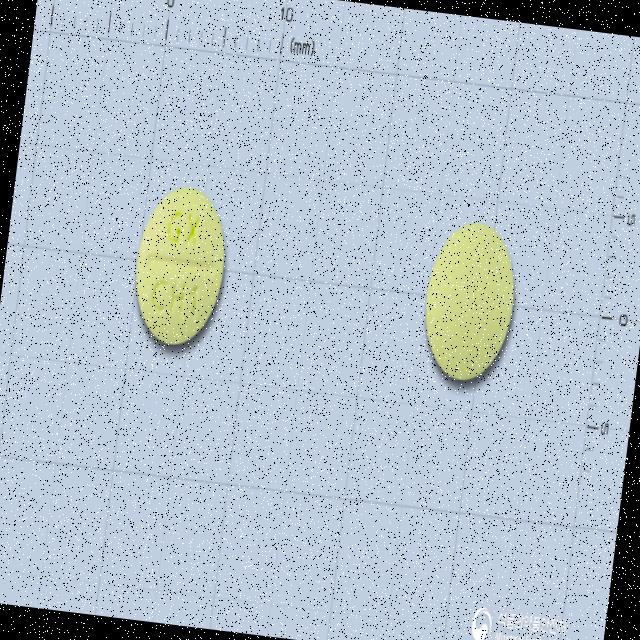Imuran: (417, 216, 524, 387), (126, 180, 234, 349)
